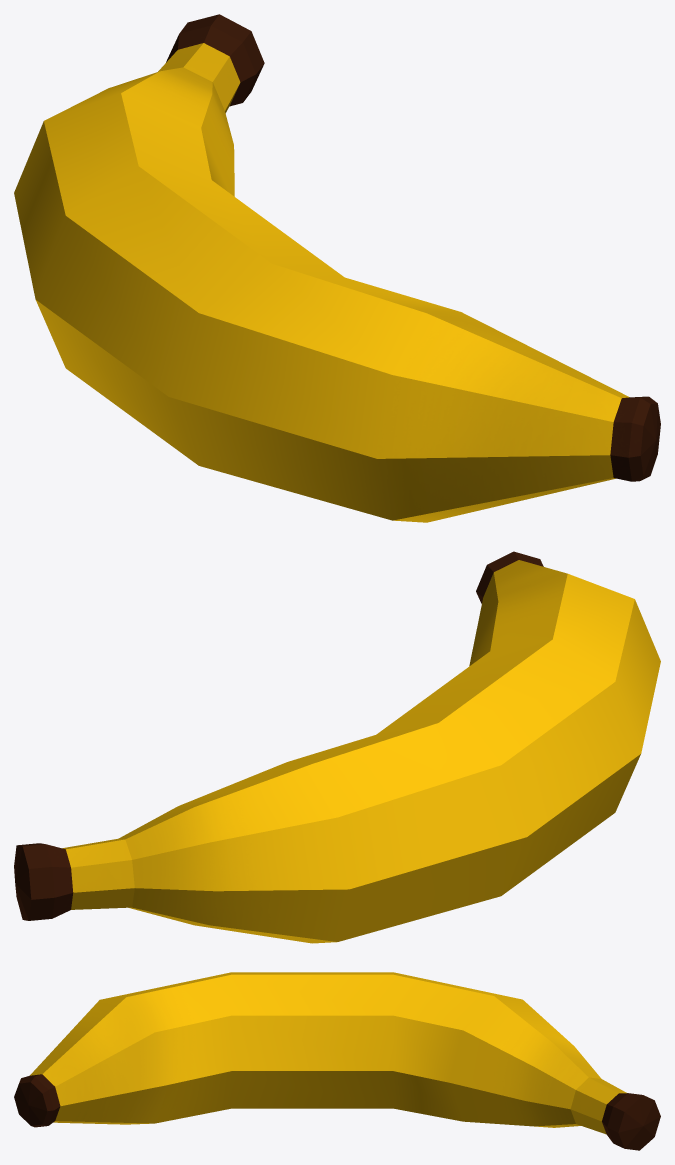
Rendered from banana.fbx.
3 renders of one model, top to bottom at view 1: azimuth 30°, elevation 25°; view 2: azimuth 150°, elevation 25°; view 3: azimuth 270°, elevation 25°, orthographic. The views are drawn at different scales.
Visible parts, largest first — view 1: Banana; view 2: Banana; view 3: Banana.
Part boxes in pixels (bbox=[...]): Banana: bbox=[14, 14, 660, 522]; Banana: bbox=[14, 551, 660, 943]; Banana: bbox=[14, 972, 660, 1150].
Size of the model in its own units: 45.28 by 22.58 by 101.
1 material, 1 textured.
